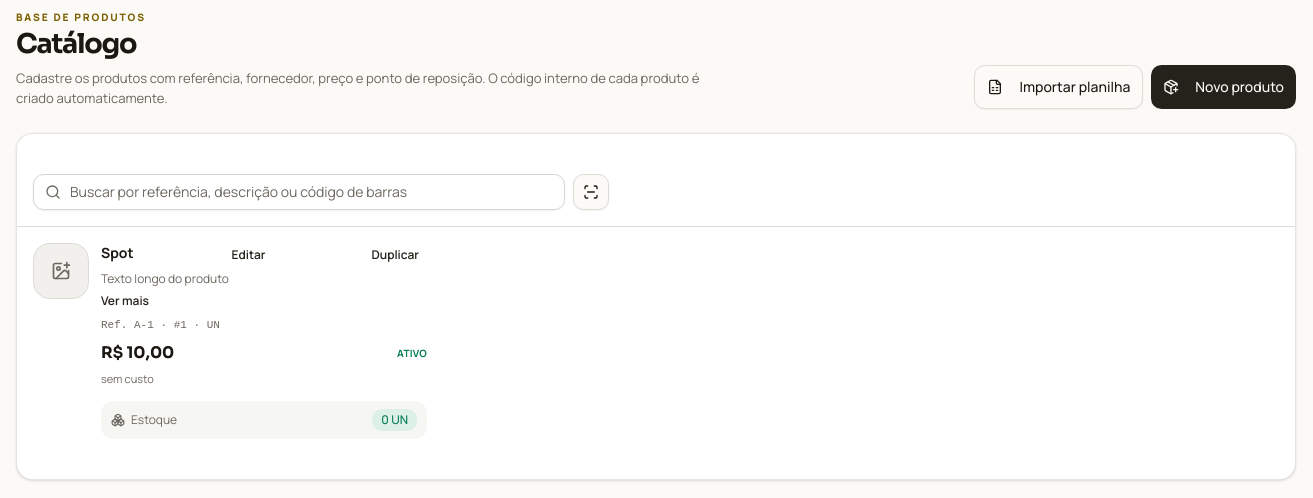
Test: ProductsPage › descrição longa mostra Ver mais e Ver menos; curta não
Click the button "Ver mais". click: (125, 301)
box: x1=97 y1=289 x2=153 y2=313
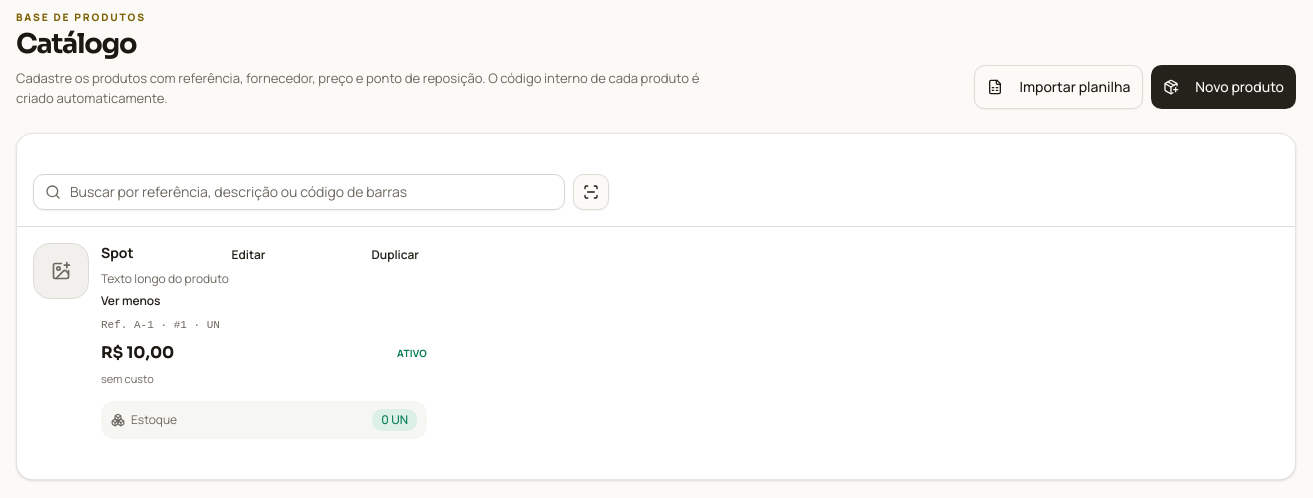
Click the button "Ver menos". click: (131, 301)
box: x1=97 y1=289 x2=164 y2=313
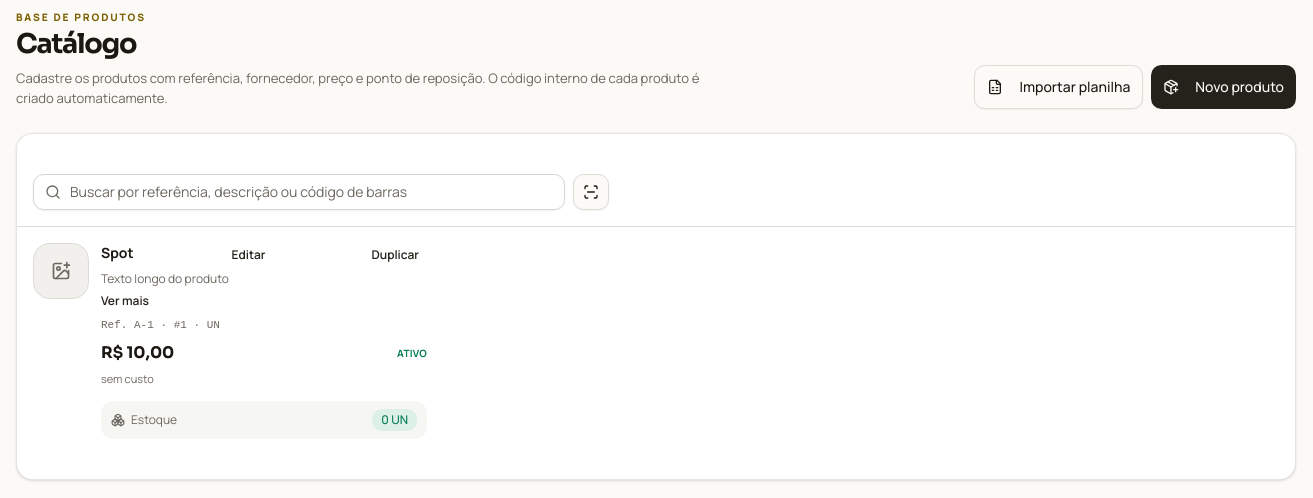
Check: the button "Ver mais" is shown, box x1=97 y1=289 x2=153 y2=313
